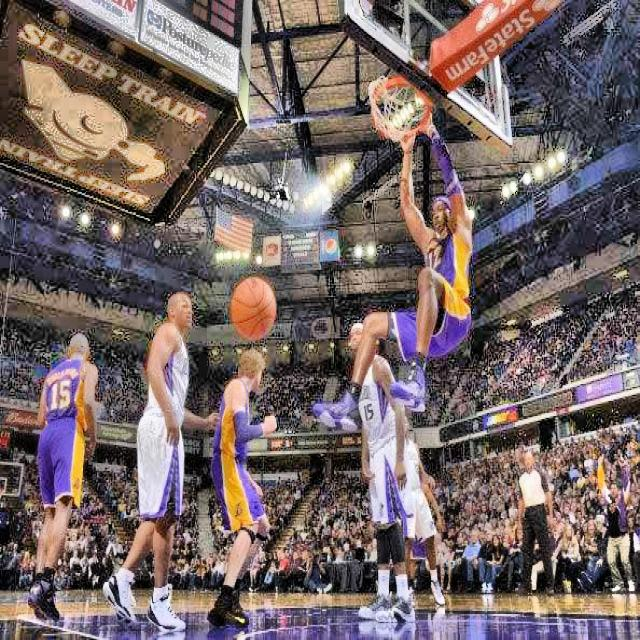board: (232, 277, 277, 342)
rim: (362, 75, 439, 146)
